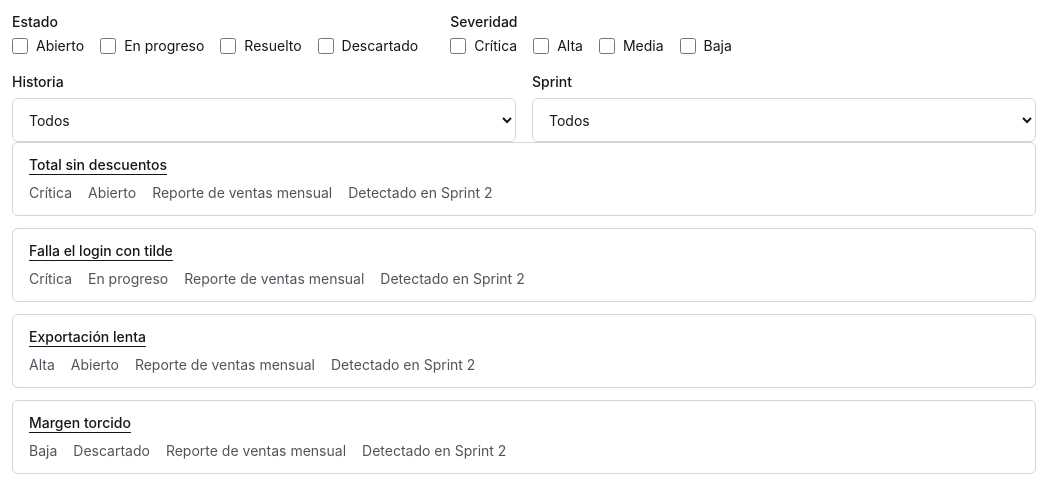
Test case: 007/US3 - Consultar y filtrar los defectos › el filtro por estado pide status y deja solo los defectos de ese estado
The width and height of the screenshot is (1048, 491).
Check: the number of list items is 4, box [12,142,1036,216]; [12,228,1036,302]; [12,314,1036,388]; [12,400,1036,474]
Check: the list item that starts with "Total sin descuentos" is shown, box [29,155,1019,175]
Click the checkbox labelled "Abierto".
click(20, 46)  # box [12,38,28,54]
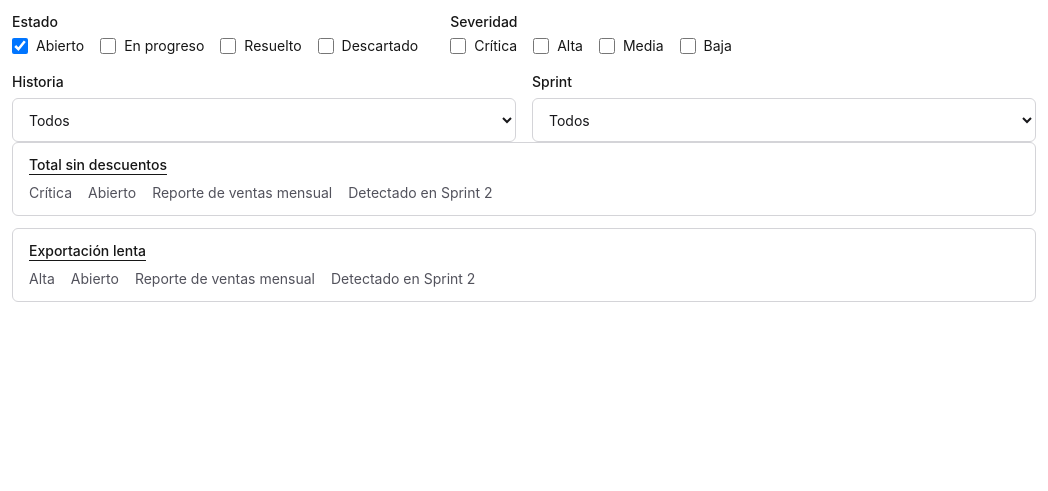
Check: the list item that starts with "Total sin descuentos" is shown, box [29,155,1019,175]
Check: the number of list items is 2, box [12,142,1036,216]; [12,228,1036,302]
